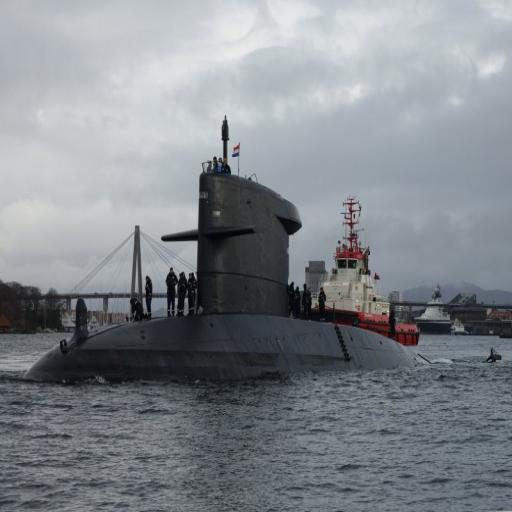submarine: (22, 110, 445, 381)
